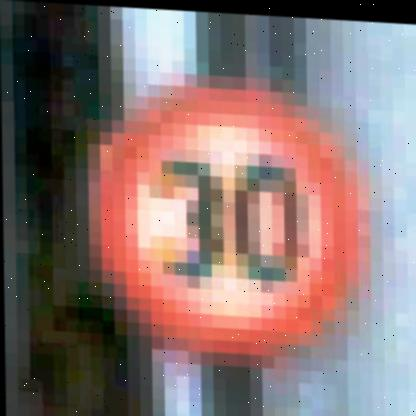Speed Limit -30-: (86, 66, 374, 369)
